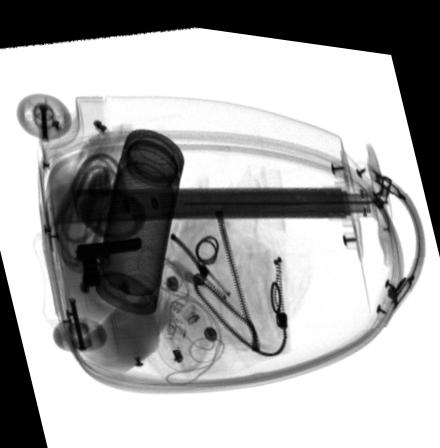Gun: (76, 233, 142, 287)
